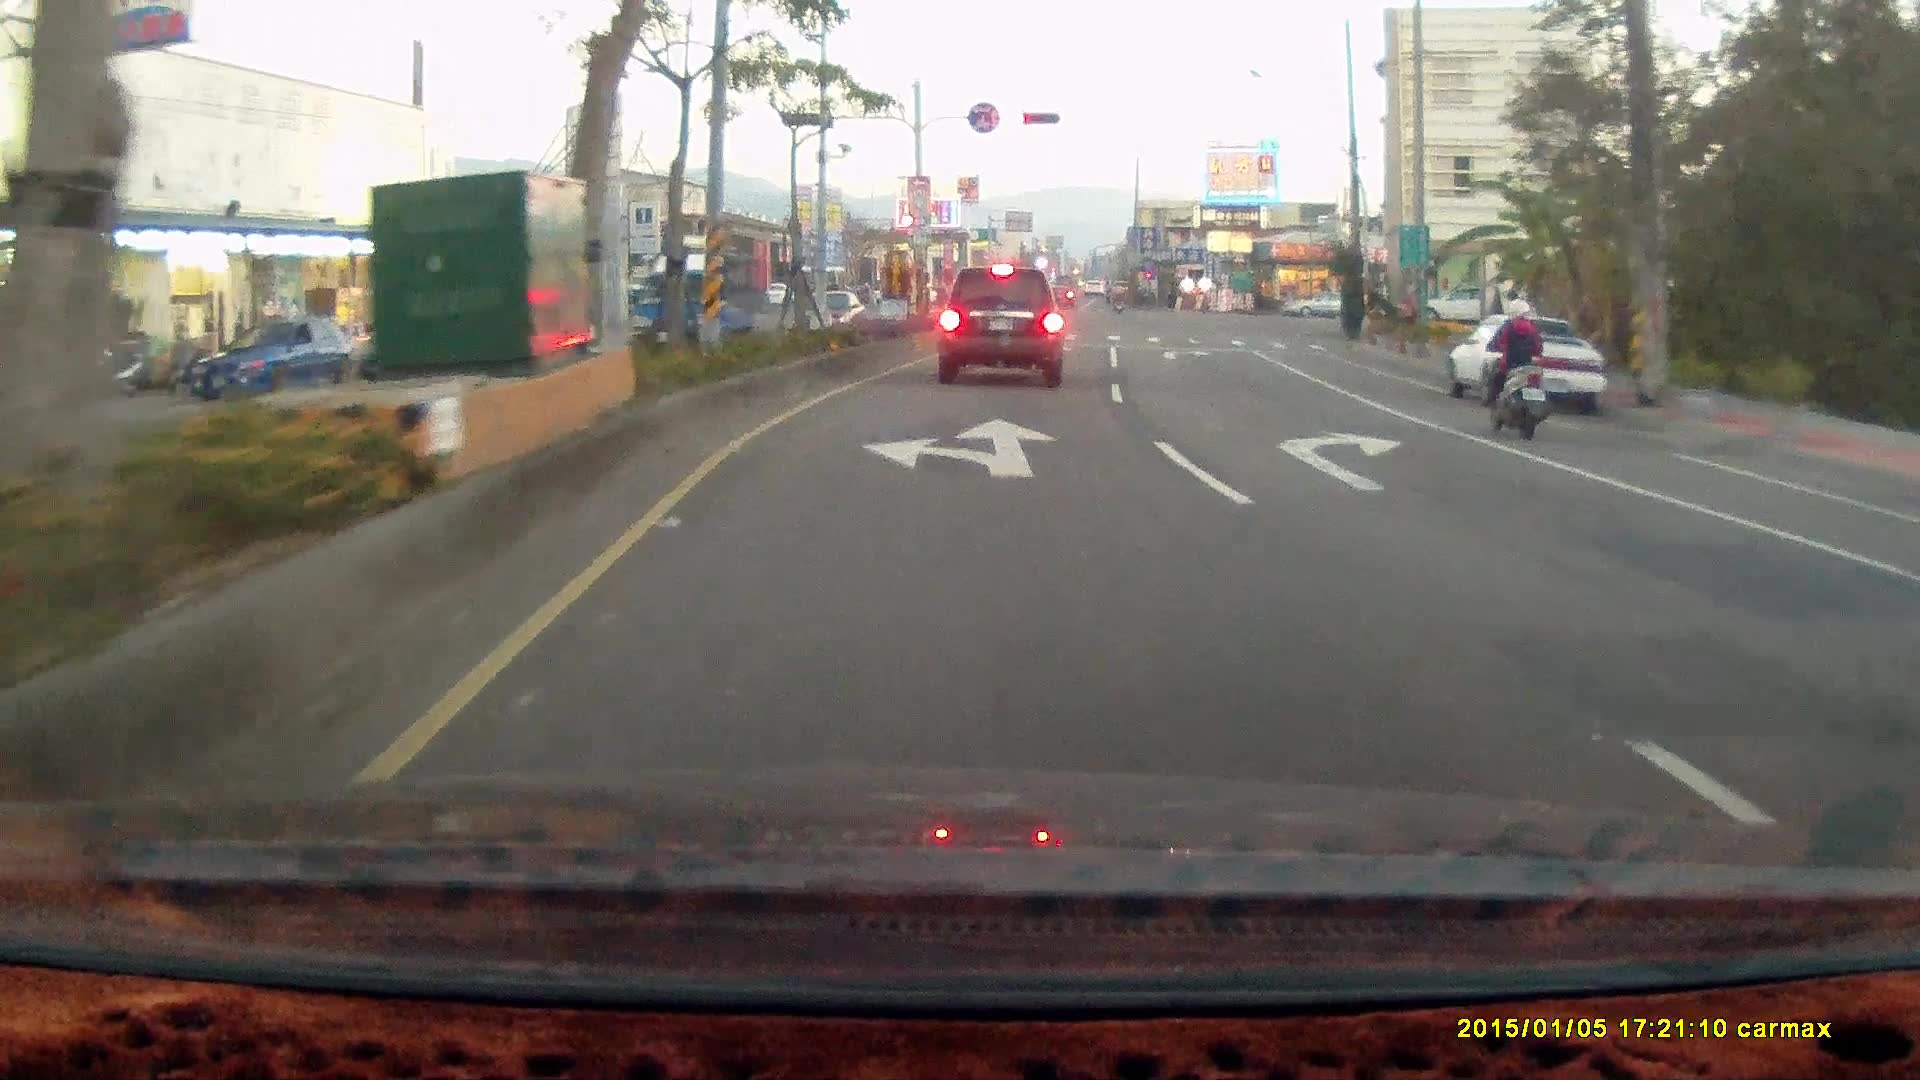rider: (1473, 297, 1552, 441)
vehicle: (1443, 312, 1607, 416), (936, 267, 1063, 386), (1454, 319, 1610, 414), (189, 314, 358, 399), (627, 250, 763, 347), (1896, 493, 1920, 836), (1883, 528, 1920, 690), (1416, 280, 1513, 325), (1282, 289, 1358, 316)
